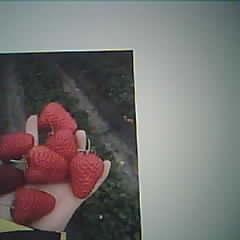straw-ripe: (26, 146, 70, 186), (12, 187, 55, 222), (71, 153, 103, 199)
